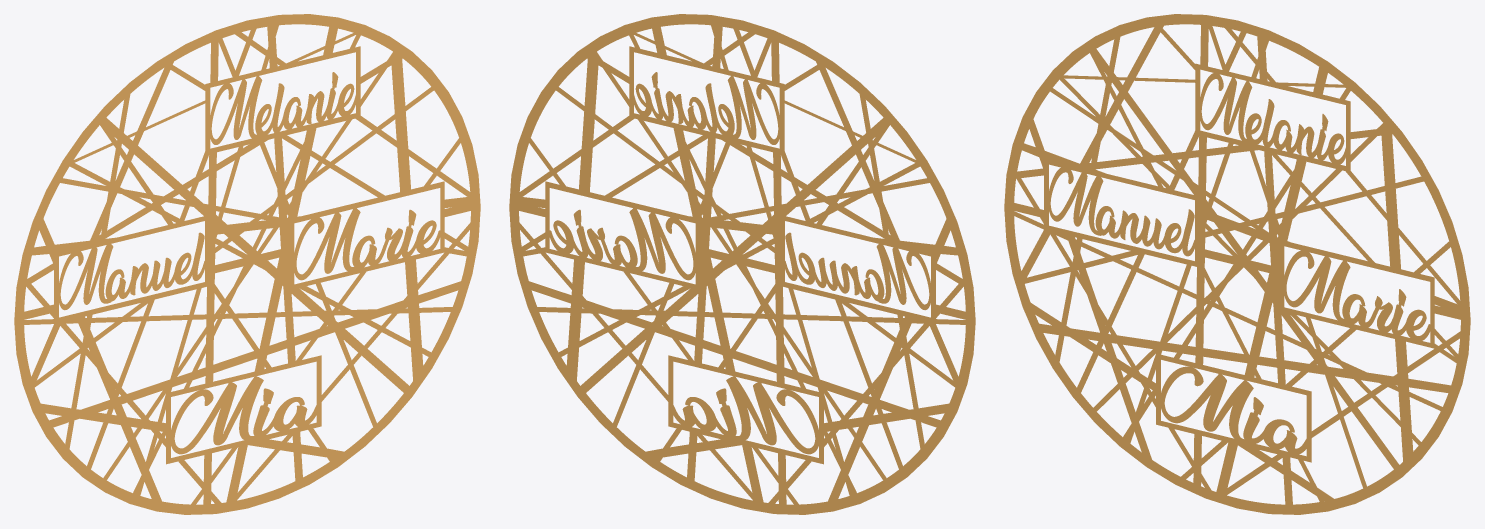
The model's file is sunflower.gltf.
3 views of the same model, side by side, from view 1: azimuth 30°, elevation 25°; view 2: azimuth 150°, elevation 25°; view 3: azimuth 330°, elevation 25° (orthographic).
Size of the model in its own units: 2 by 2 by 0.
